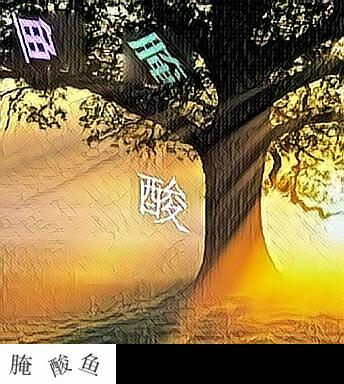character: (131, 167, 194, 236), (126, 32, 186, 90), (11, 13, 58, 64)
